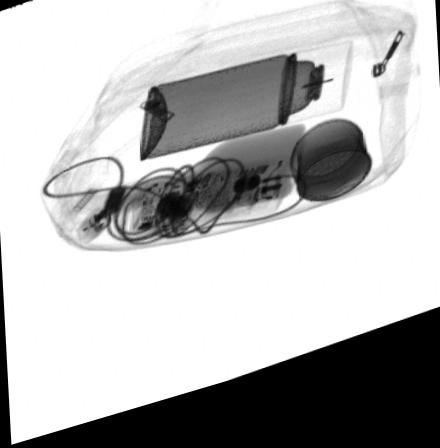Lighter: (192, 173, 296, 227)
Sprayer: (140, 61, 354, 169)
